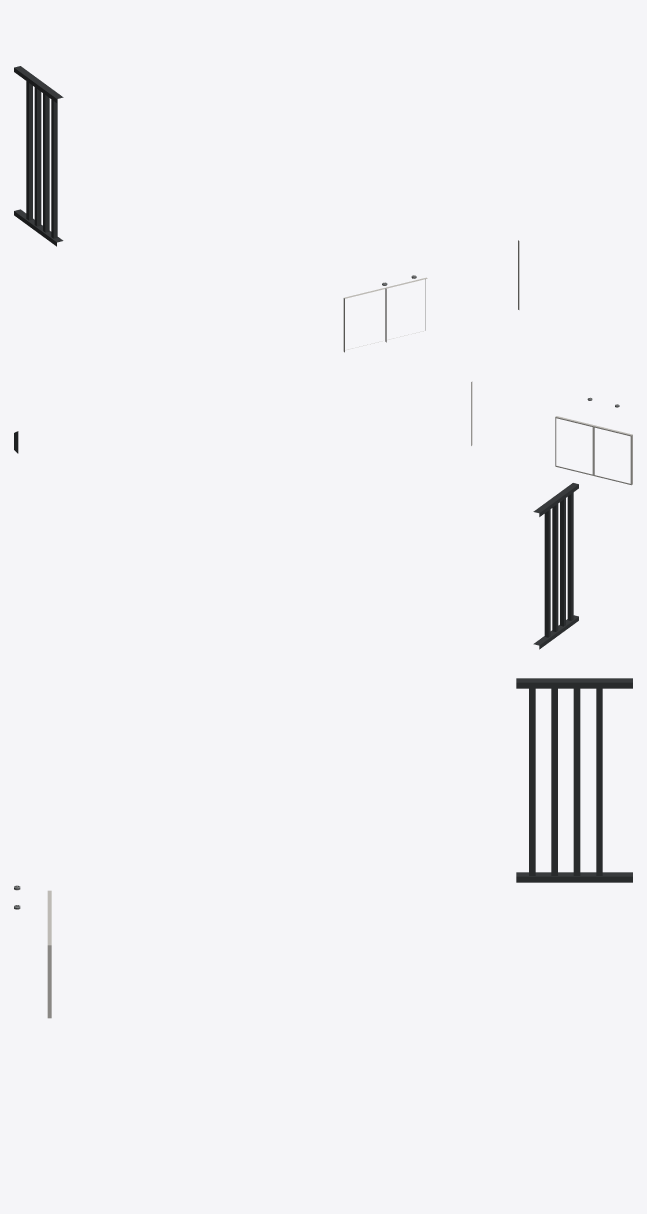
The model's file is kd_stage_135b75_4_46.glb.
3 renders of one model, top to bottom at view 1: azimuth 30°, elevation 25°; view 2: azimuth 150°, elevation 25°; view 3: azimuth 270°, elevation 25°, orthographic. The views are drawn at different scales.
Visible parts, largest first — view 1: kd_stage_135b75_4_46; view 2: kd_stage_135b75_4_46; view 3: kd_stage_135b75_4_46.
Boxes of the visible parts, box(x1,y1,x2,y2) form: kd_stage_135b75_4_46: box(14, 66, 519, 352); kd_stage_135b75_4_46: box(14, 381, 632, 649); kd_stage_135b75_4_46: box(14, 678, 632, 1018).
Bounding box in the file's own units: 7.16 × 1.79 × 4.78.
Materials: 1 (1 with a texture image).
